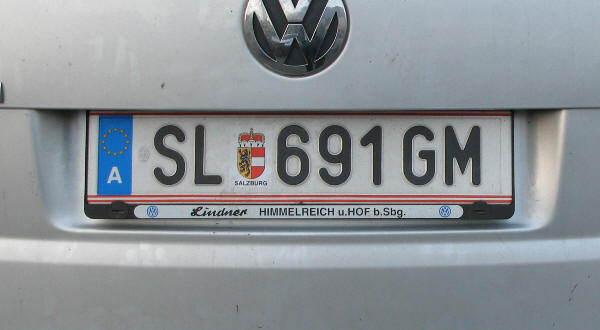license_plate: (87, 110, 514, 209)
